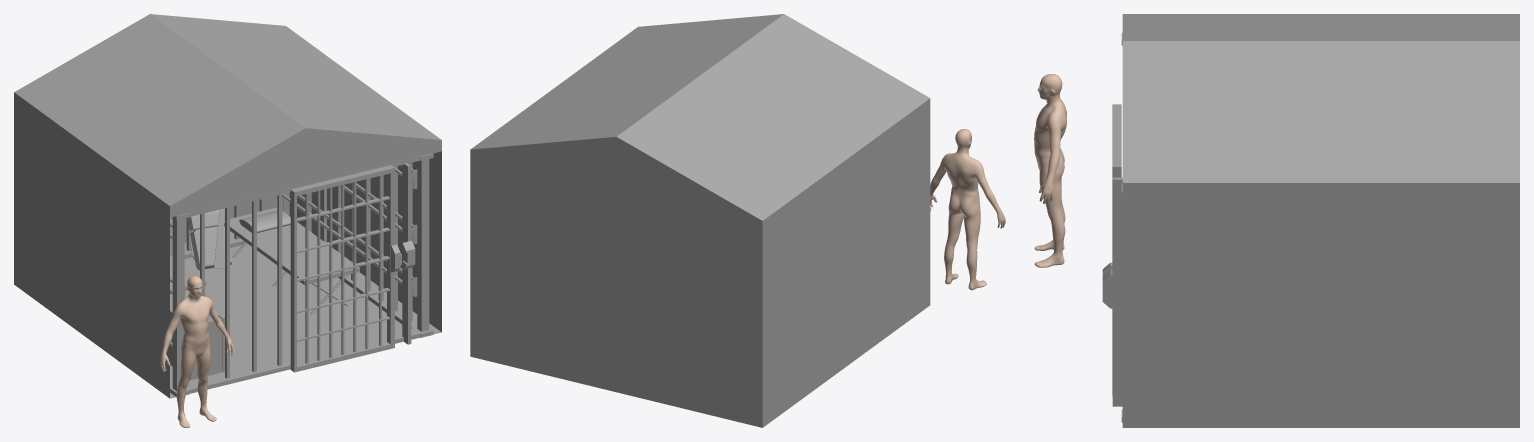
File: tentWhiteBox.fbx
3 renders of one model, left to right at view 1: azimuth 30°, elevation 25°; view 2: azimuth 150°, elevation 25°; view 3: azimuth 270°, elevation 25°, orthographic. The views are drawn at different scales.
Parts seen in each view (by area): view 1: Tent, pCube47, HumanBody:humanBody, pCube41, pCube55, pCube52, pCylinder17, pCube54; view 2: Tent, HumanBody:humanBody; view 3: Tent, HumanBody:humanBody, pCube47.
Boxes of the visible parts, left/top/right/bottom form: Tent: left=14, top=14, right=441, bottom=398; pCube47: left=170, top=153, right=433, bottom=396; HumanBody:humanBody: left=160, top=276, right=233, bottom=427; pCube41: left=224, top=207, right=359, bottom=285; pCube55: left=187, top=209, right=231, bottom=270; pCube52: left=170, top=304, right=224, bottom=379; pCylinder17: left=239, top=210, right=290, bottom=232; pCube54: left=214, top=208, right=224, bottom=269; Tent: left=470, top=14, right=930, bottom=427; HumanBody:humanBody: left=930, top=129, right=1005, bottom=290; Tent: left=1122, top=14, right=1519, bottom=427; HumanBody:humanBody: left=1034, top=74, right=1066, bottom=267; pCube47: left=1102, top=32, right=1122, bottom=422.
Bounding box in the file's own units: 13.55 × 9.95 × 14.4.
